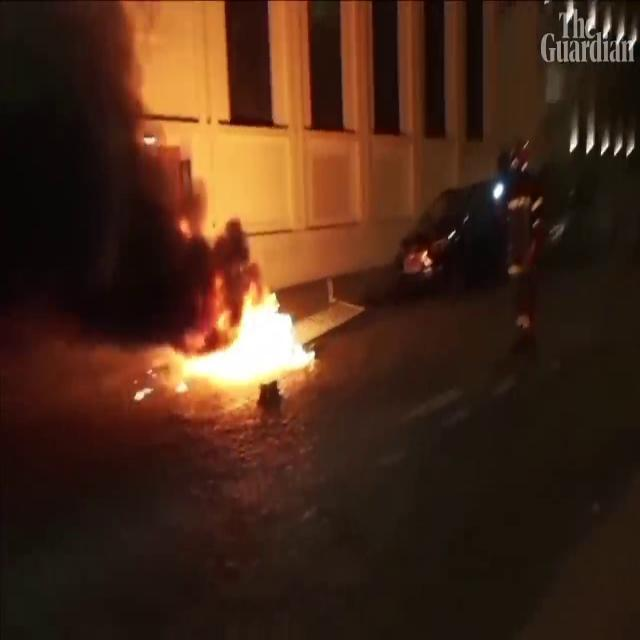Fire: (166, 268, 316, 402)
Smoke: (0, 1, 202, 357)
